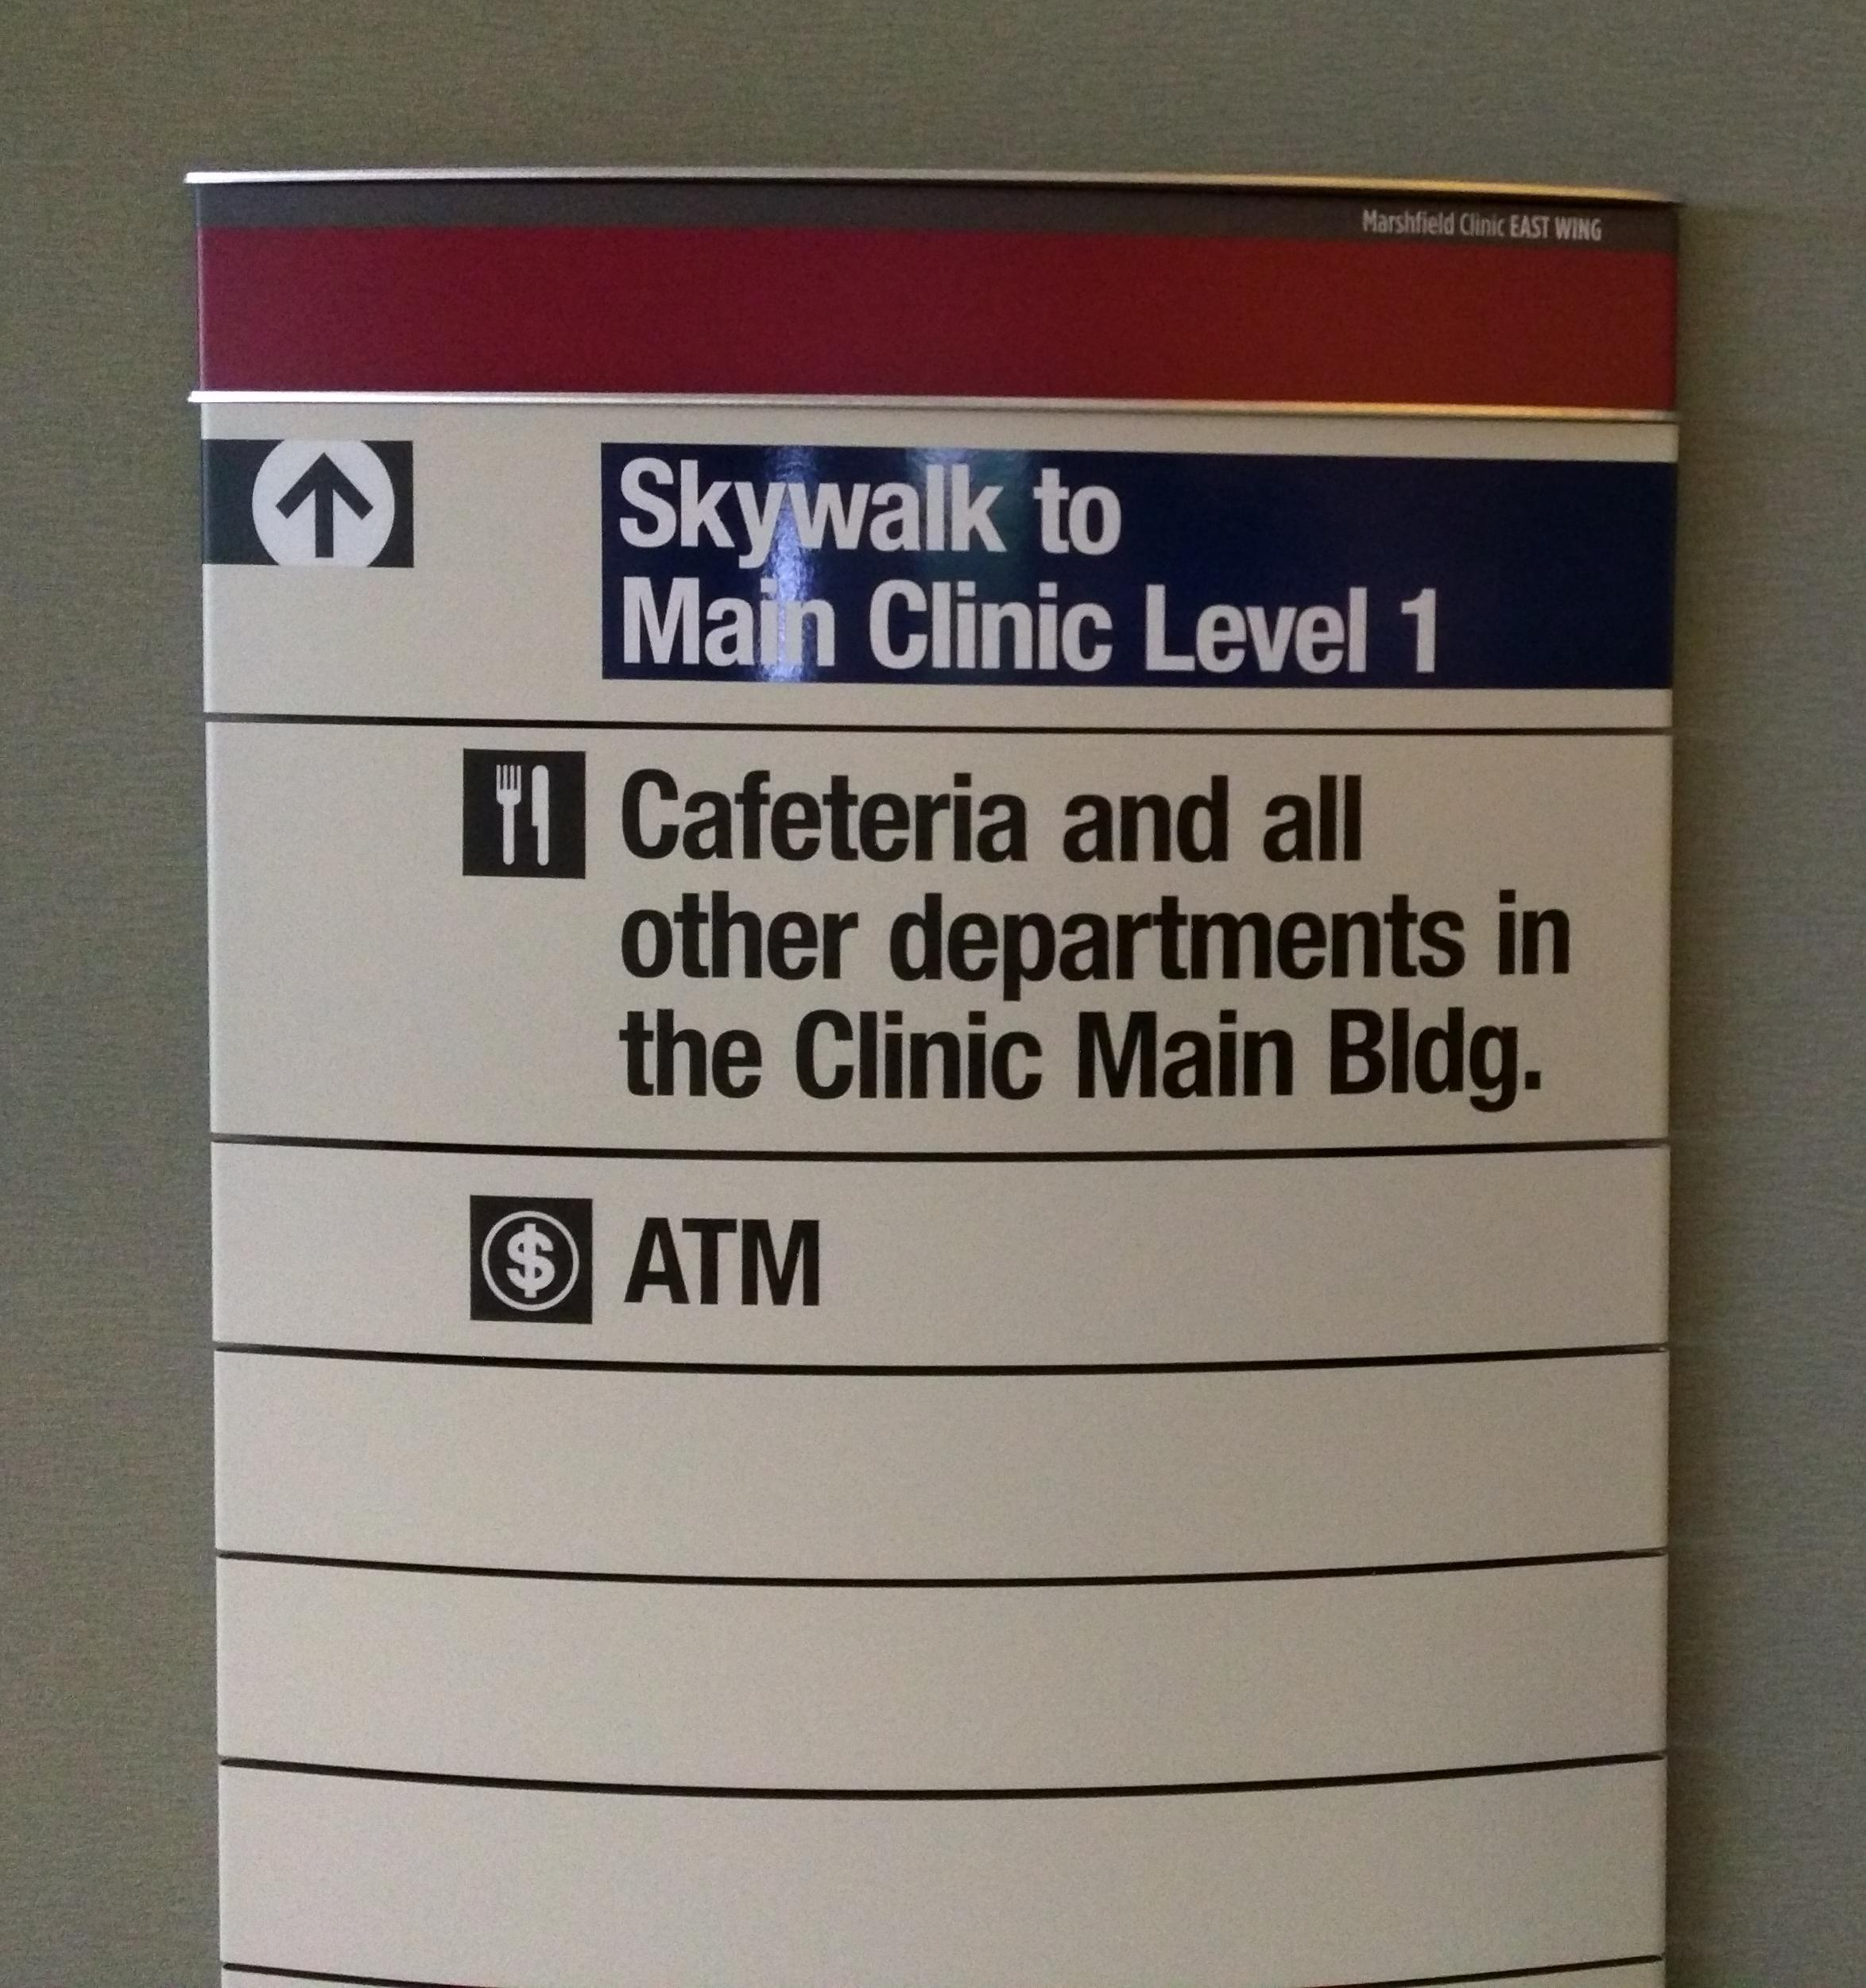sign: (172, 163, 1691, 1986)
